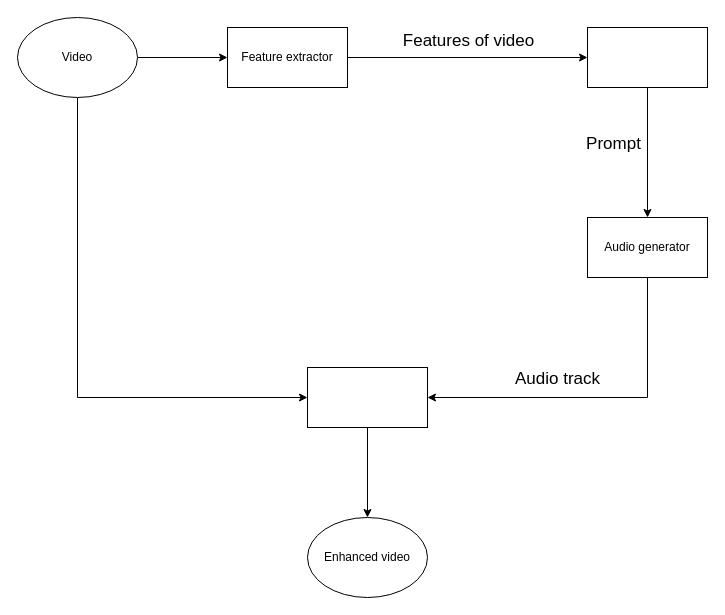
This 725x615 diagram has some shape labels left out. The centre of each missing label's shape, as x and y in pixels:
"Prompt enhancer" goes at point 647,57.
"Reconstructor" goes at point 367,397.
